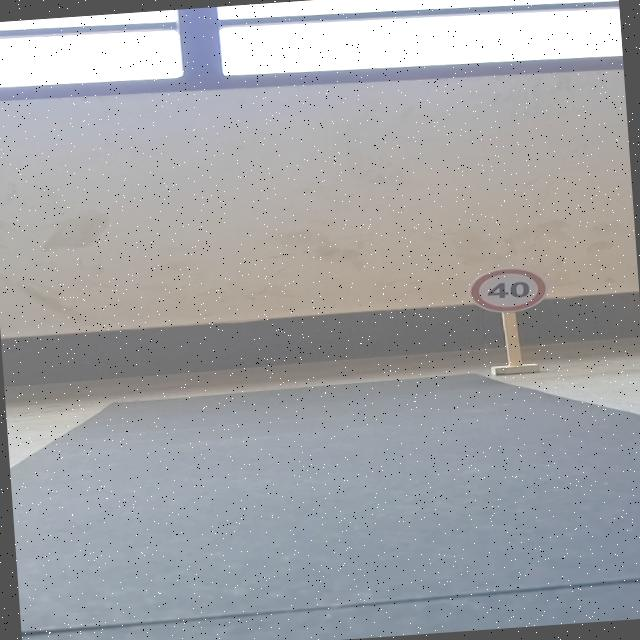Speed40: (463, 262, 550, 318)
